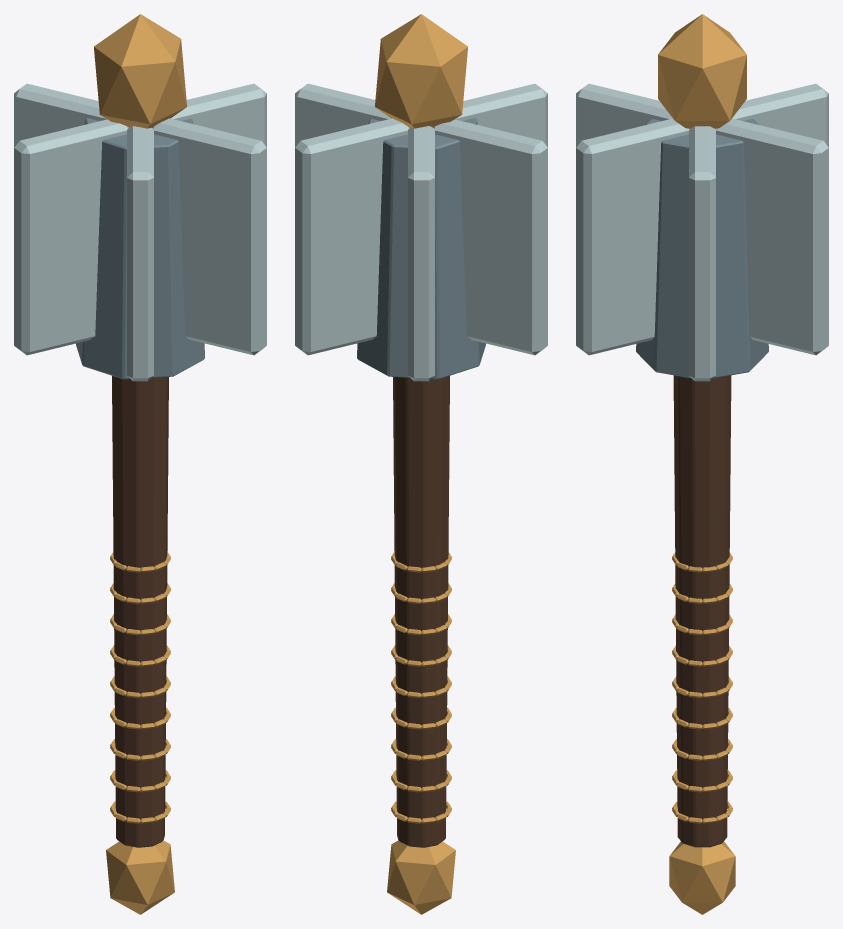
File: SM_Life_Mace.fbx
3 views of the same model, side by side, from view 1: azimuth 30°, elevation 25°; view 2: azimuth 150°, elevation 25°; view 3: azimuth 270°, elevation 25° (orthographic).
Parts seen in each view (by area): view 1: SM_Life_Mace; view 2: SM_Life_Mace; view 3: SM_Life_Mace.
Boxes of the visible parts, left/top/right/bottom form: SM_Life_Mace: left=14, top=14, right=266, bottom=914; SM_Life_Mace: left=295, top=14, right=547, bottom=914; SM_Life_Mace: left=576, top=14, right=828, bottom=914.
Bounding box in the file's own units: 27 × 94.7 × 24.08.
